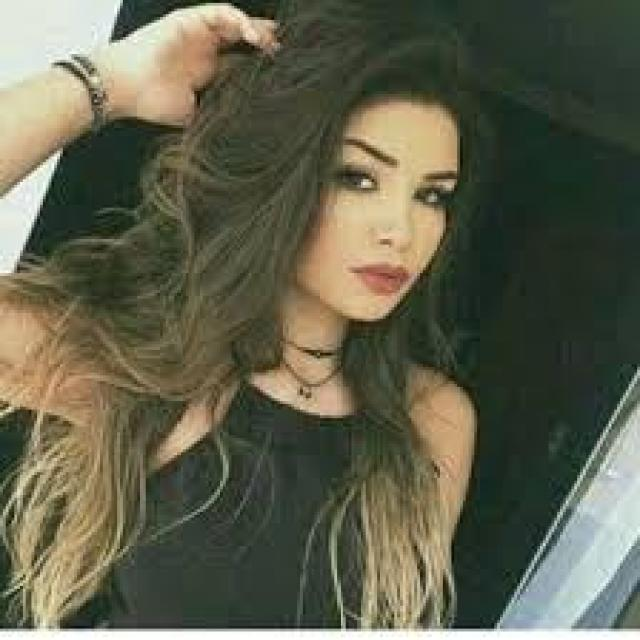person: (34, 6, 492, 626)
